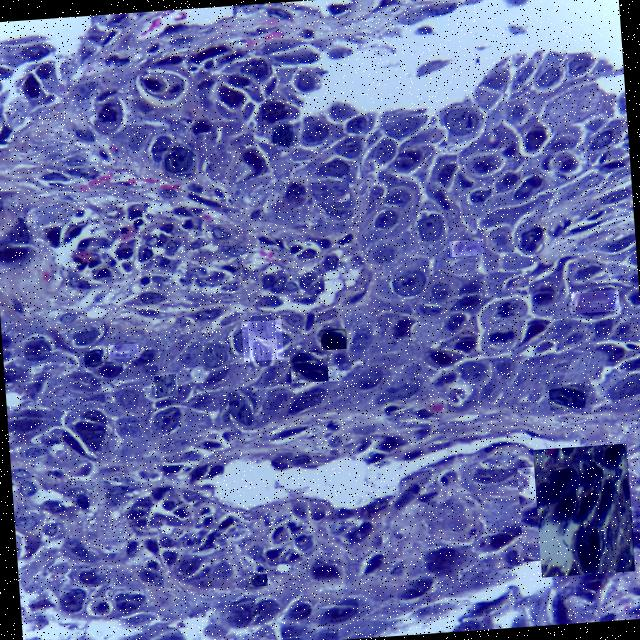Multiple Nucleol: (240, 318, 283, 362), (222, 391, 257, 427), (162, 146, 195, 178), (546, 383, 584, 410), (310, 180, 348, 203), (201, 342, 228, 370), (448, 238, 482, 256), (152, 373, 176, 398), (106, 343, 138, 359), (270, 124, 292, 146), (120, 416, 138, 437), (82, 349, 100, 366), (247, 574, 266, 589)
Nuclear Hyperchromatism: (534, 443, 625, 574), (288, 351, 327, 384), (570, 290, 619, 314), (318, 328, 346, 350)
